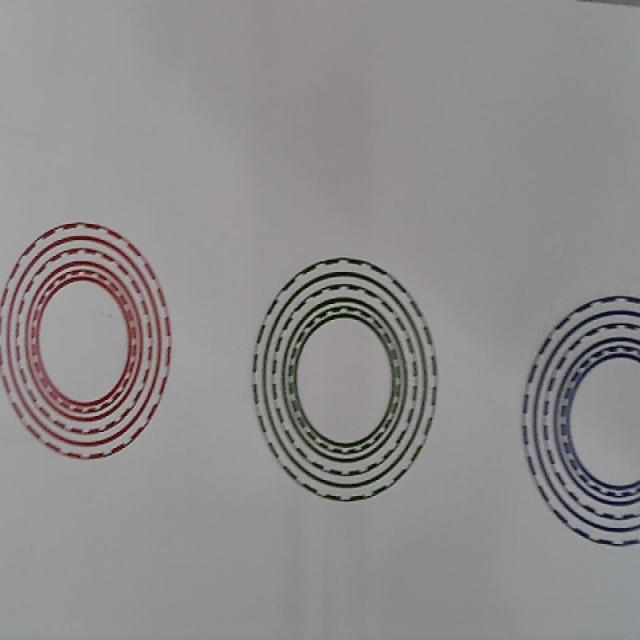g: (252, 256, 440, 503)
